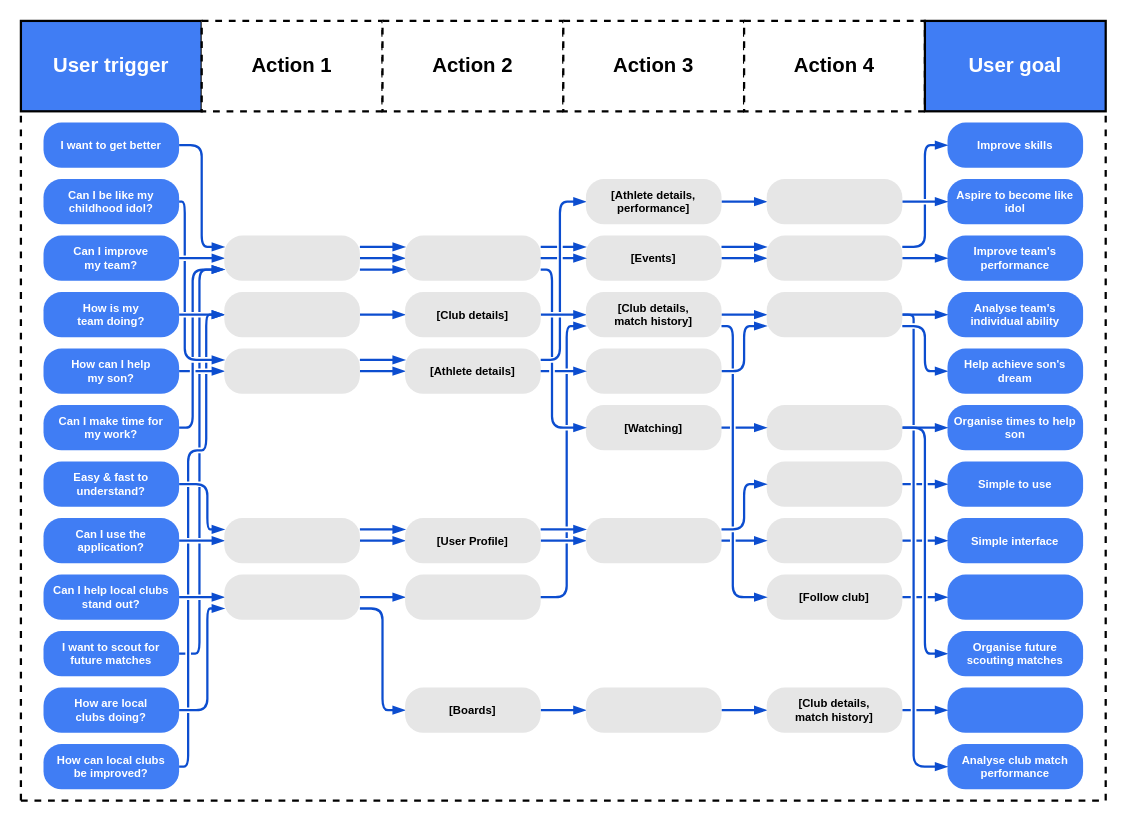
Some shapes in this 1127 by 822 pixel diagram are drawn without their labels. The shapes that lost their labels are listed below. From the top down, each one's centre as x and y in pixels, then its label:
At point (834, 201): "[Athlete details, Board rank]".
At point (291, 257): "[Home page, Create match]".
At point (472, 257): "[Match Creation]".
At point (834, 257): "[Games, Game details]".
At point (291, 314): "[Home page, Saved clubs]".
At point (834, 314): "[Game details]".
At point (291, 370): "[Home page, Saved Athletes]".
At point (653, 370): "[Athlete details, Games history]".
At point (834, 427): "[Watching details]".
At point (834, 483): "[User setting, accessibility]".
At point (291, 540): "[Home page]".
At point (653, 540): "[User Settings]".
At point (834, 540): "[About]".
At point (291, 596): "[Home page, Burger menu]".
At point (472, 596): "[Clubs, search]".
At point (1015, 596): "Help local clubs be known".
At point (653, 709): "[Search, filter results]".
At point (1015, 709): "Stay on top of club(s) happenings".
